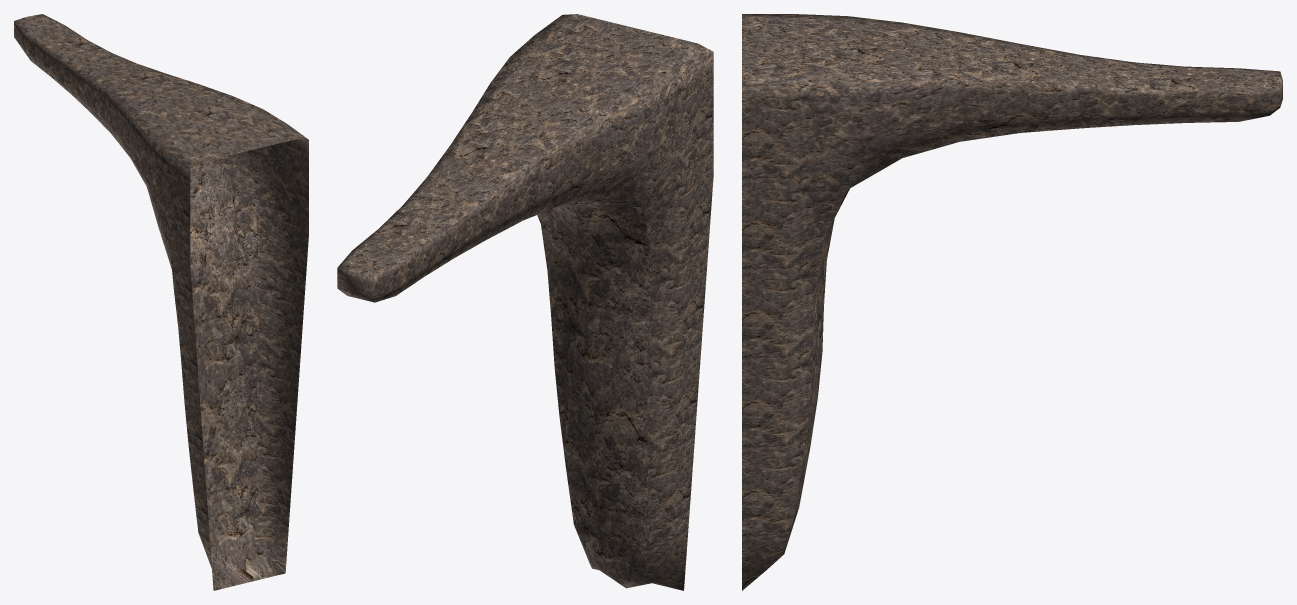
The model's file is DANHON_OP.fbx.
The picture shows the model from 3 angles, left to right: view 1: azimuth 30°, elevation 25°; view 2: azimuth 150°, elevation 25°; view 3: azimuth 270°, elevation 25°; orthographic projection. The views are drawn at different scales.
Parts seen in each view (by area): view 1: Da; view 2: Da; view 3: Da.
Part boxes in pixels (x1,y1,x2,y2): Da: [14, 14, 308, 590]; Da: [337, 14, 713, 590]; Da: [742, 14, 1282, 590].
Bounding box in the file's own units: 11.08 × 38.51 × 35.97.
